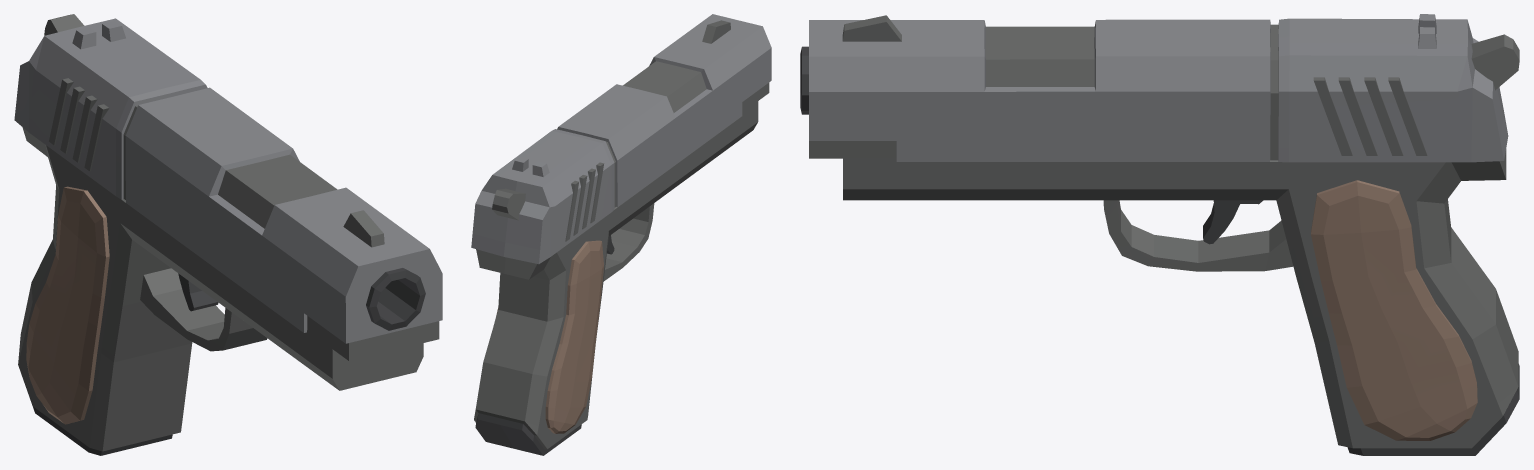
File: pistol_2.glb
3 views of the same model, side by side, from view 1: azimuth 30°, elevation 25°; view 2: azimuth 150°, elevation 25°; view 3: azimuth 270°, elevation 25° (orthographic). The views are drawn at different scales.
Parts seen in each view (by area): view 1: pistol_2; view 2: pistol_2; view 3: pistol_2.
Part boxes in pixels (<box>): pistol_2: <box>14,14,442,455</box>; pistol_2: <box>471,14,771,455</box>; pistol_2: <box>800,14,1519,455</box>.
Size of the model in its own units: 0.0291 by 0.1044 by 0.1636.
